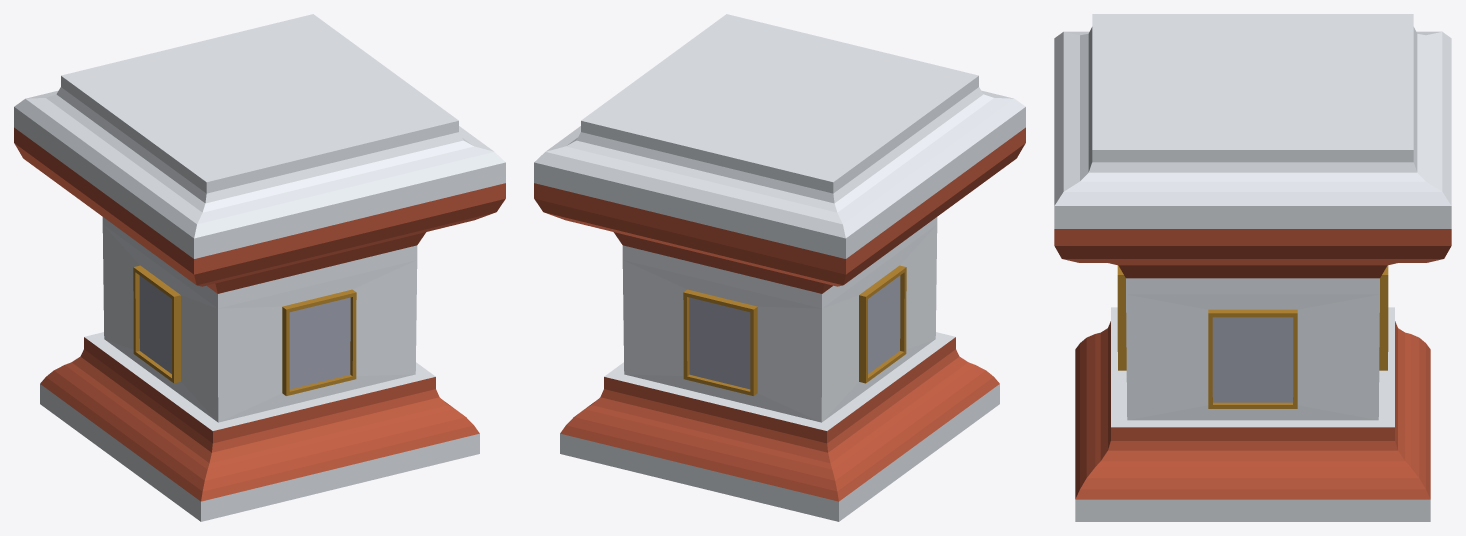
The model's file is Statue_Base.fbx.
3 views of the same model, side by side, from view 1: azimuth 30°, elevation 25°; view 2: azimuth 150°, elevation 25°; view 3: azimuth 270°, elevation 25° (orthographic). The views are drawn at different scales.
Parts seen in each view (by area): view 1: Statue Base; view 2: Statue Base; view 3: Statue Base.
Boxes of the visible parts, x1,y1,x2,y2 form: Statue Base: [14, 14, 505, 521]; Statue Base: [534, 14, 1025, 521]; Statue Base: [1054, 14, 1451, 521].
Size of the model in its own units: 224 by 227 by 224.
